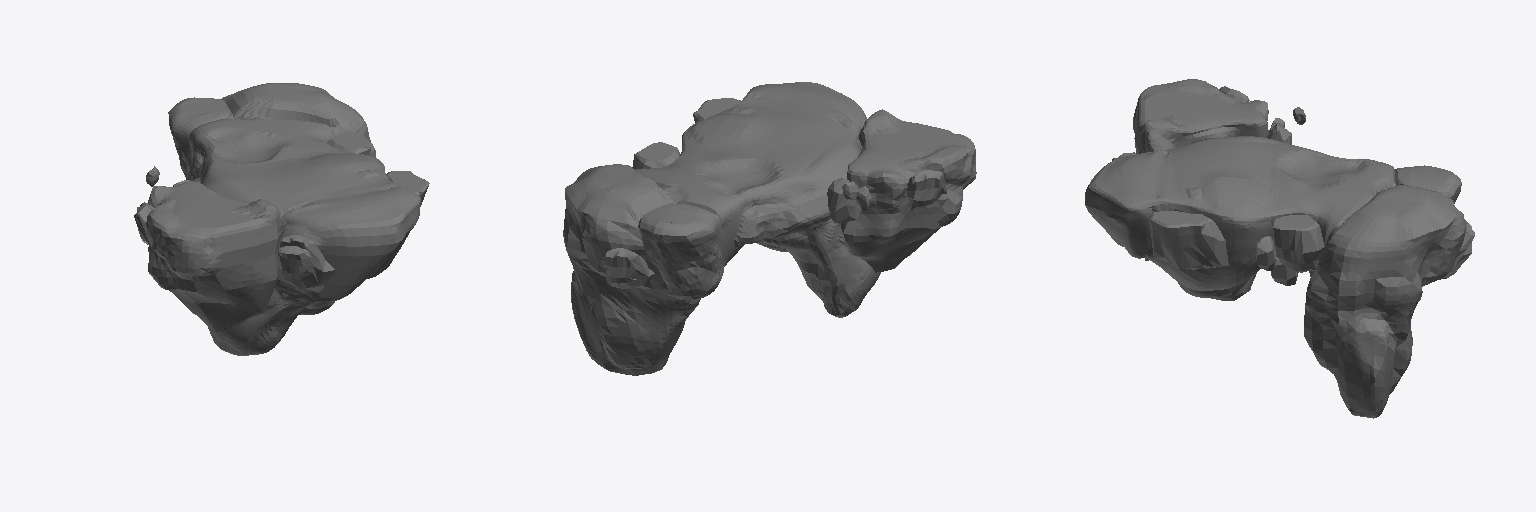
Rendered from theIsland.obj.
The picture shows the model from 3 angles: view 1: azimuth 30°, elevation 25°; view 2: azimuth 150°, elevation 25°; view 3: azimuth 270°, elevation 25°; orthographic projection.
Bounding box in the file's own units: 161 × 112 × 180.